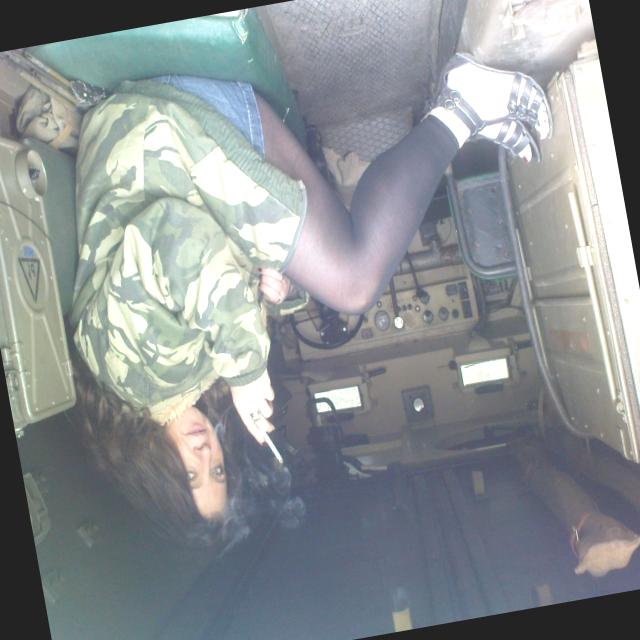cigarette: (254, 429, 308, 488)
